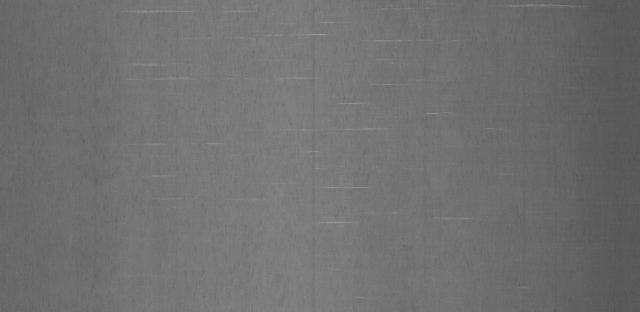waist_folding: (115, 12, 525, 275)
